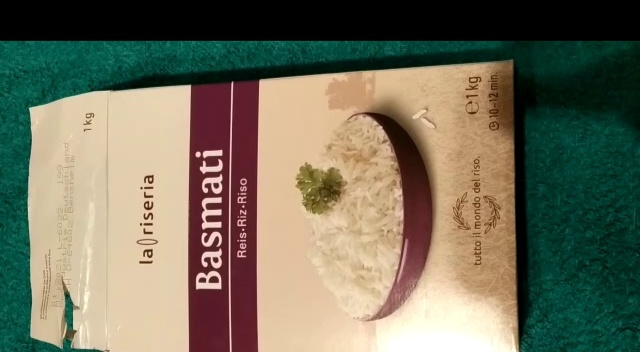basmati_rice: (20, 56, 525, 352)
